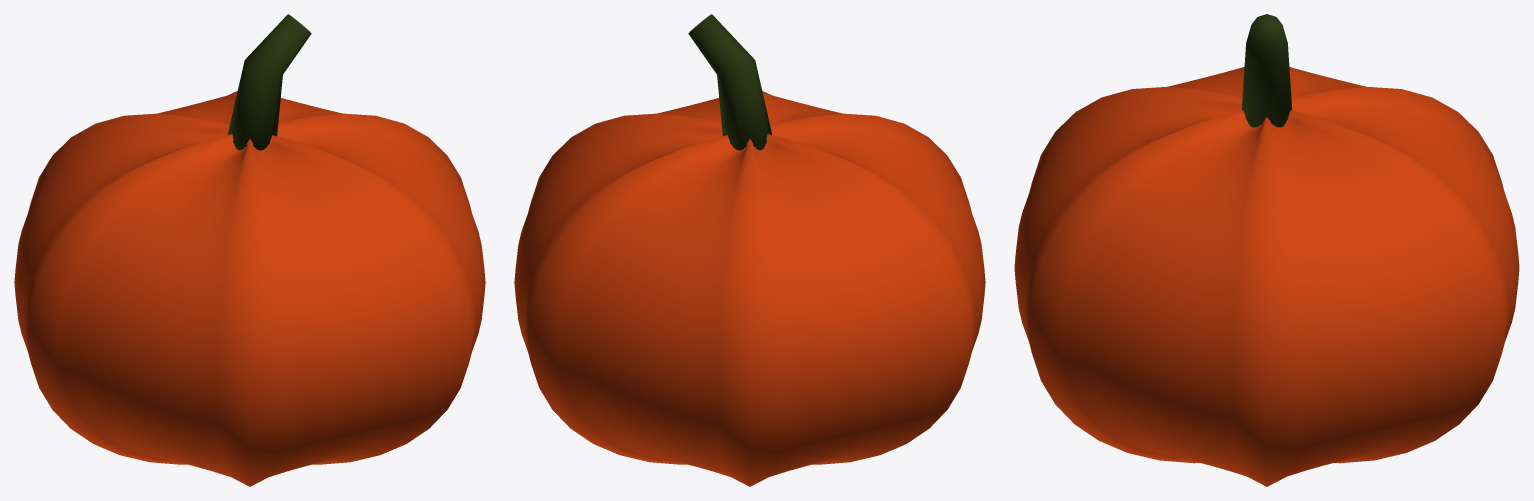
The model's file is pumpkin_small.obj.
3 renders of one model, left to right at view 1: azimuth 30°, elevation 25°; view 2: azimuth 150°, elevation 25°; view 3: azimuth 270°, elevation 25°, orthographic. The views are drawn at different scales.
Visible parts, largest first — view 1: LH_pumpkin_small; view 2: LH_pumpkin_small; view 3: LH_pumpkin_small.
Boxes of the visible parts, x1,y1,x2,y2 form: LH_pumpkin_small: (14, 14, 485, 486); LH_pumpkin_small: (514, 14, 985, 486); LH_pumpkin_small: (1014, 14, 1519, 486).
Bounding box in the file's own units: 0.16 × 0.1485 × 0.1472.
